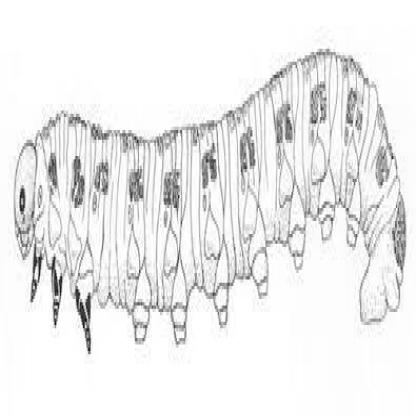sawfly: (12, 46, 406, 354)
